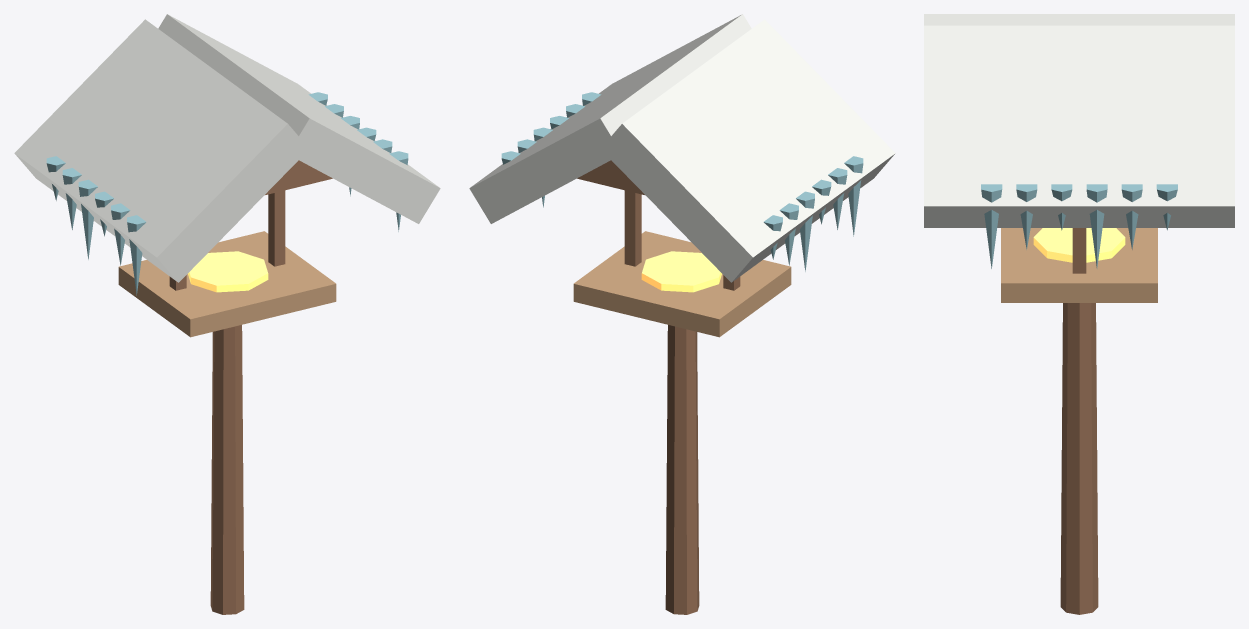
Rendered from birdfeeder.glb.
3 views of the same model, side by side, from view 1: azimuth 30°, elevation 25°; view 2: azimuth 150°, elevation 25°; view 3: azimuth 270°, elevation 25° (orthographic). The views are drawn at different scales.
Visible parts, largest first — view 1: winter-bird-feeder-snow, winter-bird-feeder-wood, winter-bird-feeder-cedar, winter-bird-feeder-ice, winter-bird-feeder-amber; view 2: winter-bird-feeder-snow, winter-bird-feeder-wood, winter-bird-feeder-cedar, winter-bird-feeder-ice, winter-bird-feeder-amber; view 3: winter-bird-feeder-snow, winter-bird-feeder-wood, winter-bird-feeder-cedar, winter-bird-feeder-ice, winter-bird-feeder-amber.
Part boxes in pixels (x1=…): winter-bird-feeder-snow: x1=14, y1=14, x2=440, y2=282; winter-bird-feeder-wood: x1=169, y1=160, x2=332, y2=614; winter-bird-feeder-cedar: x1=118, y1=231, x2=336, y2=337; winter-bird-feeder-ice: x1=46, y1=92, x2=408, y2=295; winter-bird-feeder-amber: x1=188, y1=251, x2=268, y2=292; winter-bird-feeder-snow: x1=469, y1=14, x2=895, y2=282; winter-bird-feeder-wood: x1=577, y1=160, x2=740, y2=614; winter-bird-feeder-cedar: x1=573, y1=231, x2=791, y2=337; winter-bird-feeder-ice: x1=501, y1=92, x2=863, y2=271; winter-bird-feeder-amber: x1=641, y1=251, x2=721, y2=292; winter-bird-feeder-snow: x1=924, y1=14, x2=1234, y2=227; winter-bird-feeder-wood: x1=1060, y1=228, x2=1098, y2=614; winter-bird-feeder-cedar: x1=1001, y1=228, x2=1157, y2=302; winter-bird-feeder-ice: x1=981, y1=184, x2=1177, y2=268; winter-bird-feeder-amber: x1=1033, y1=228, x2=1125, y2=262.
Bounding box in the file's own units: 1.32 × 2.4 × 1.15.
